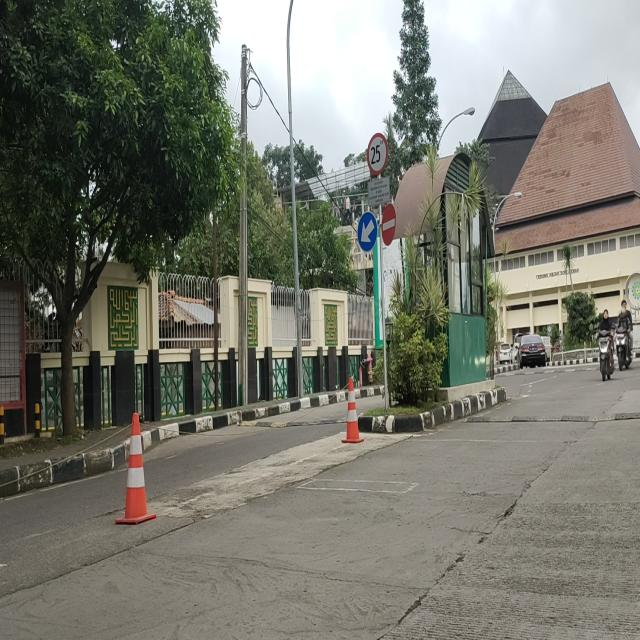no-helmet: (602, 308, 609, 322), (622, 299, 626, 311)
